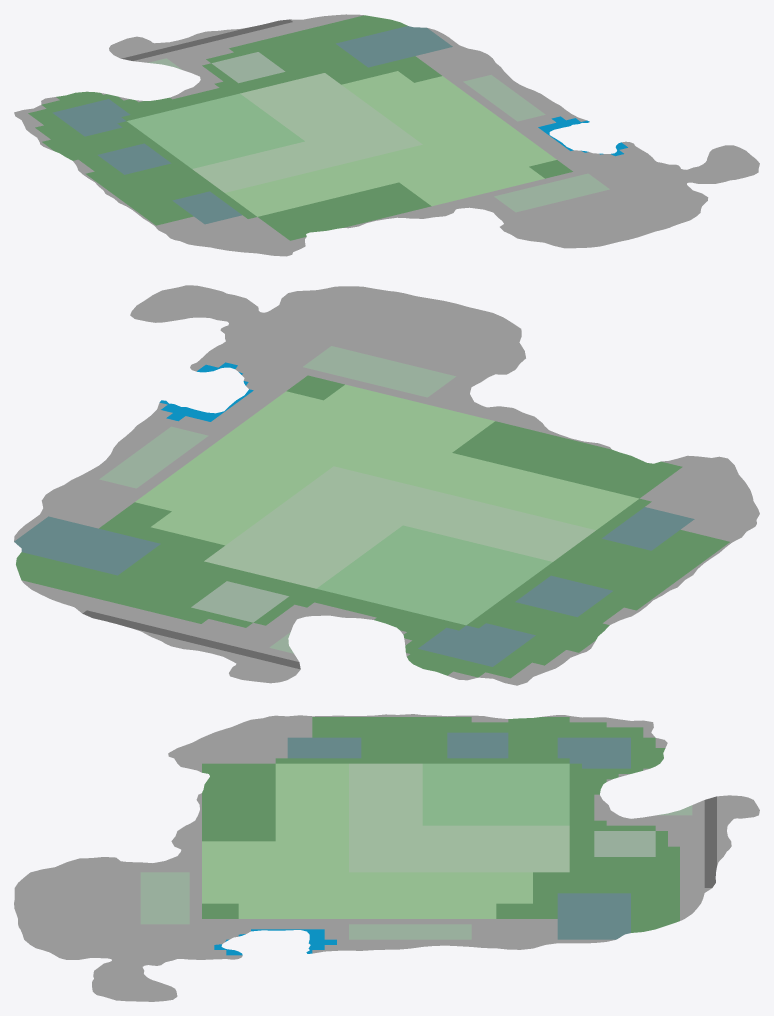
Rendered from gezi.fbx.
3 renders of one model, top to bottom at view 1: azimuth 30°, elevation 25°; view 2: azimuth 150°, elevation 25°; view 3: azimuth 270°, elevation 25°, orthographic. The views are drawn at different scales.
Visible parts, largest first — view 1: gezi; view 2: gezi; view 3: gezi.
Boxes of the visible parts, box(x1,y1,x2,y2) form: gezi: box(14, 14, 759, 256); gezi: box(14, 285, 759, 685); gezi: box(14, 714, 759, 1001).
Size of the model in its own units: 5557 by 0.00284 by 6085.
